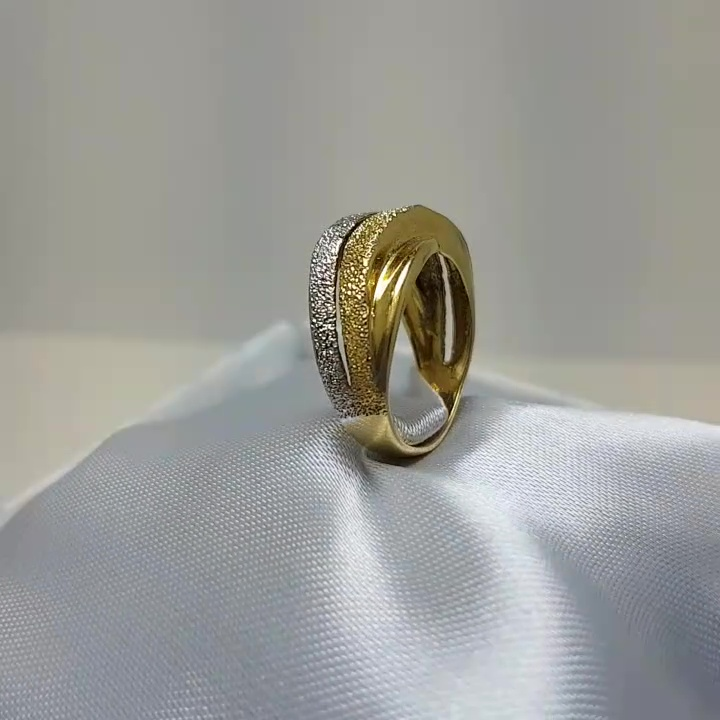Ring 5: (281, 192, 492, 472)
